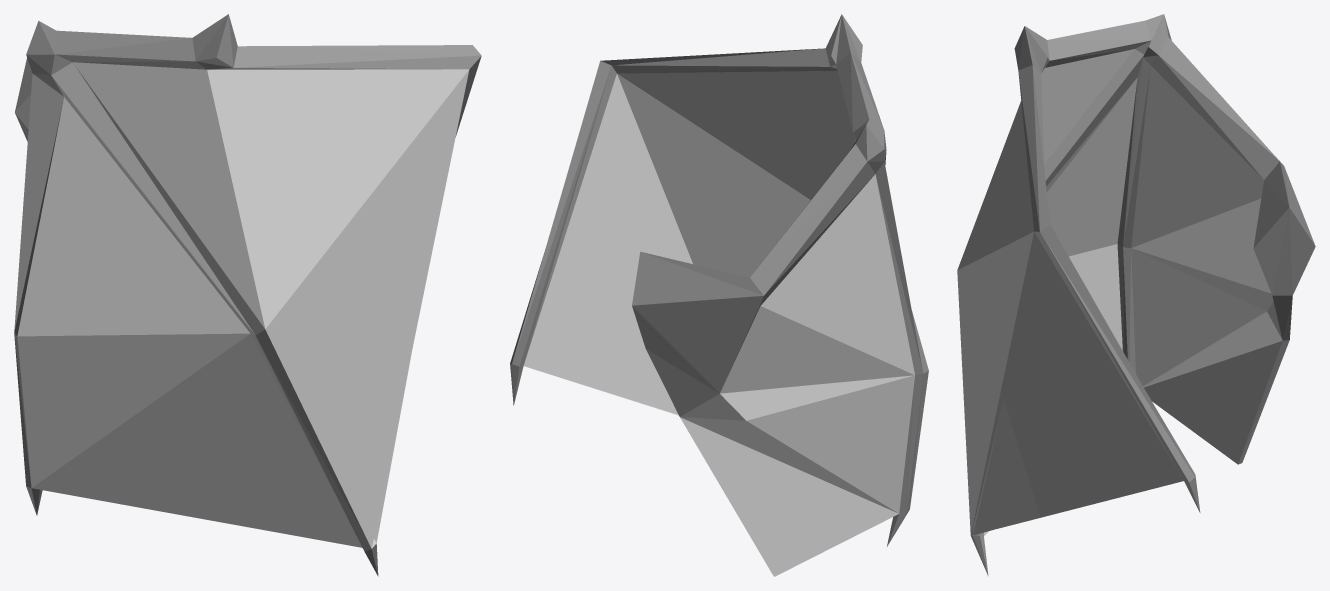
The model's file is Enemy_Bat_Hug.fbx.
3 renders of one model, left to right at view 1: azimuth 30°, elevation 25°; view 2: azimuth 150°, elevation 25°; view 3: azimuth 270°, elevation 25°, orthographic. The views are drawn at different scales.
Parts seen in each view (by area): view 1: Enemy_Bat_Hug; view 2: Enemy_Bat_Hug; view 3: Enemy_Bat_Hug.
Boxes of the visible parts, x1,y1,x2,y2 form: Enemy_Bat_Hug: [14, 14, 481, 576]; Enemy_Bat_Hug: [510, 14, 928, 576]; Enemy_Bat_Hug: [957, 14, 1315, 576].
Size of the model in its own units: 196 by 250 by 163.
